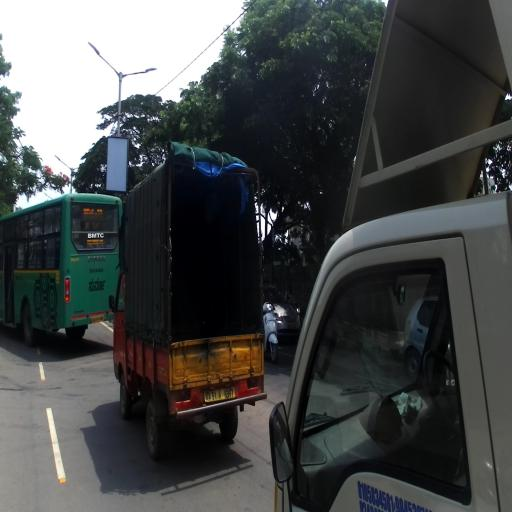street_light_0: (87, 41, 122, 79), (118, 68, 156, 80), (54, 151, 72, 171)
